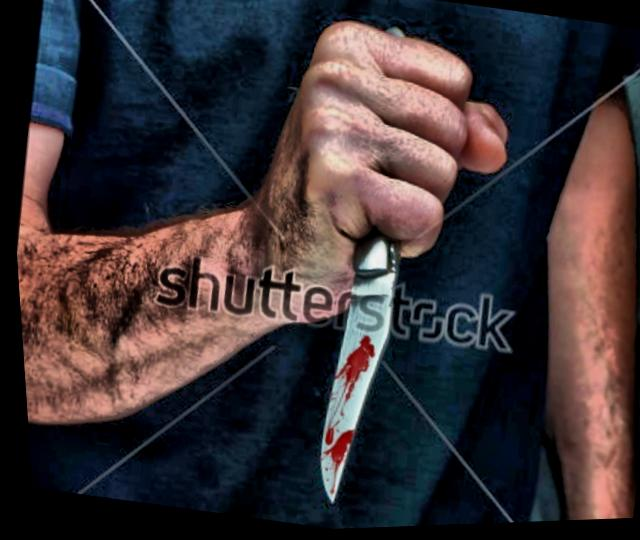knife: (228, 73, 494, 529)
